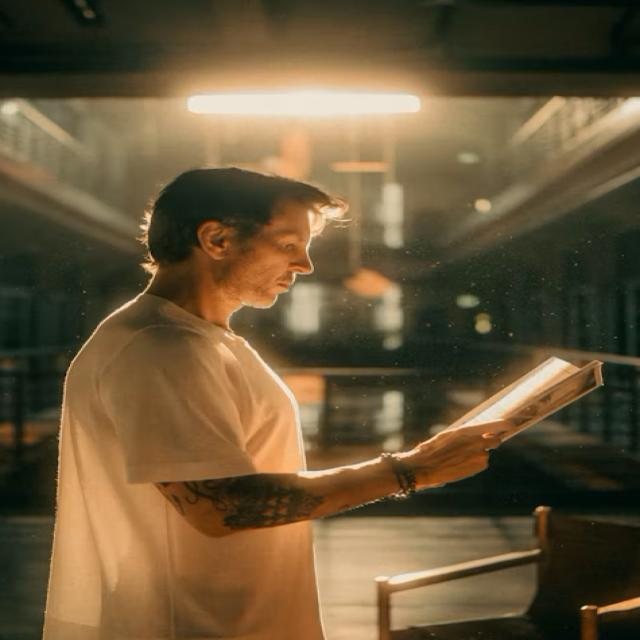Edited images: (42, 154, 546, 640)
